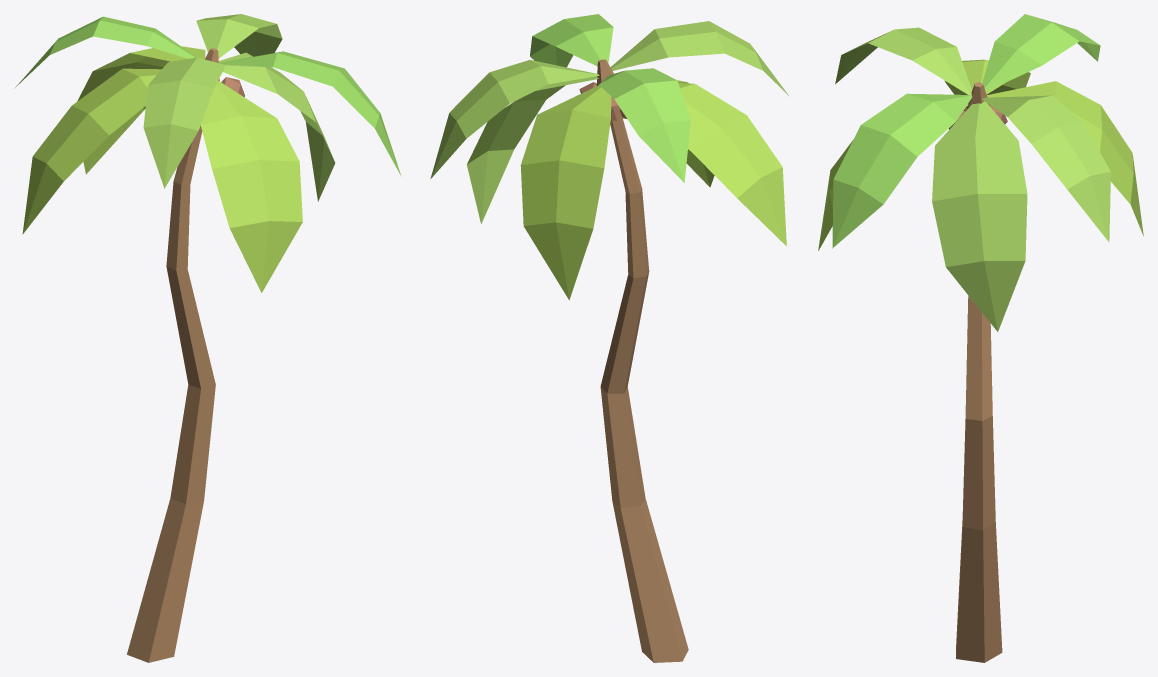
The model's file is Palm_Tree_Coconut_m_04_LOD.fbx.
3 views of the same model, side by side, from view 1: azimuth 30°, elevation 25°; view 2: azimuth 150°, elevation 25°; view 3: azimuth 270°, elevation 25° (orthographic). The views are drawn at different scales.
Visible parts, largest first — view 1: Palm_Tree_Coconut_m_04_LOD0; view 2: Palm_Tree_Coconut_m_04_LOD0; view 3: Palm_Tree_Coconut_m_04_LOD0.
Part boxes in pixels (left/top/right/bottom): Palm_Tree_Coconut_m_04_LOD0: left=14, top=14, right=401, bottom=662; Palm_Tree_Coconut_m_04_LOD0: left=430, top=14, right=789, bottom=662; Palm_Tree_Coconut_m_04_LOD0: left=818, top=14, right=1143, bottom=662.
Size of what is drawn, in the model's own units: 319 by 600 by 284.
